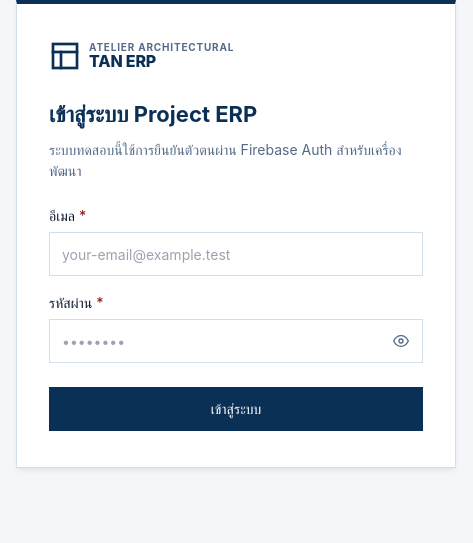
LoginForm Component › shows validation error and sets aria-invalid and aria-describedby when submitted empty
Step 1. Click the button "เข้าสู่ระบบ" → (236, 409), box [49,387,423,431]
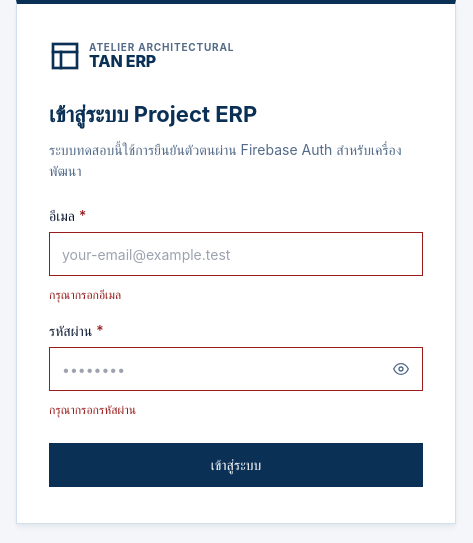
Expected: the text "กรุณากรอกอีเมล" is shown, [49,287,121,302]
Expected: the text "กรุณากรอกรหัสผ่าน" is shown, [49,402,136,417]
